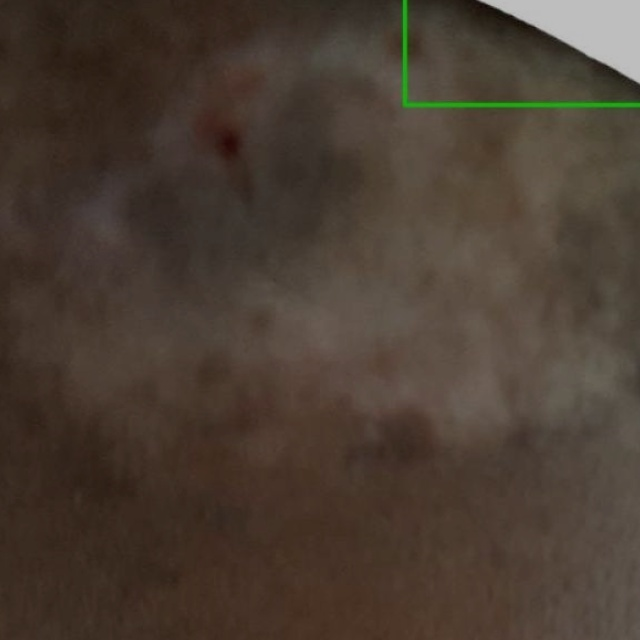Contact Dermatitis: (404, 0, 639, 104)
